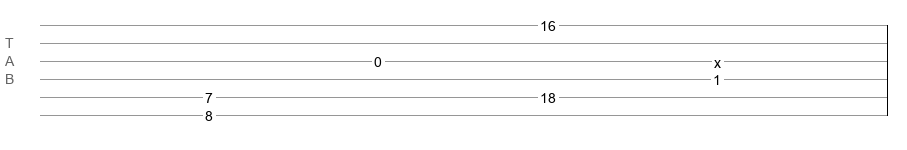0: (374, 54, 382, 64)
1: (713, 72, 721, 82)
16: (540, 18, 556, 28)
18: (540, 90, 556, 100)
7: (205, 90, 213, 100)
8: (205, 108, 213, 118)
x: (714, 55, 721, 63)
